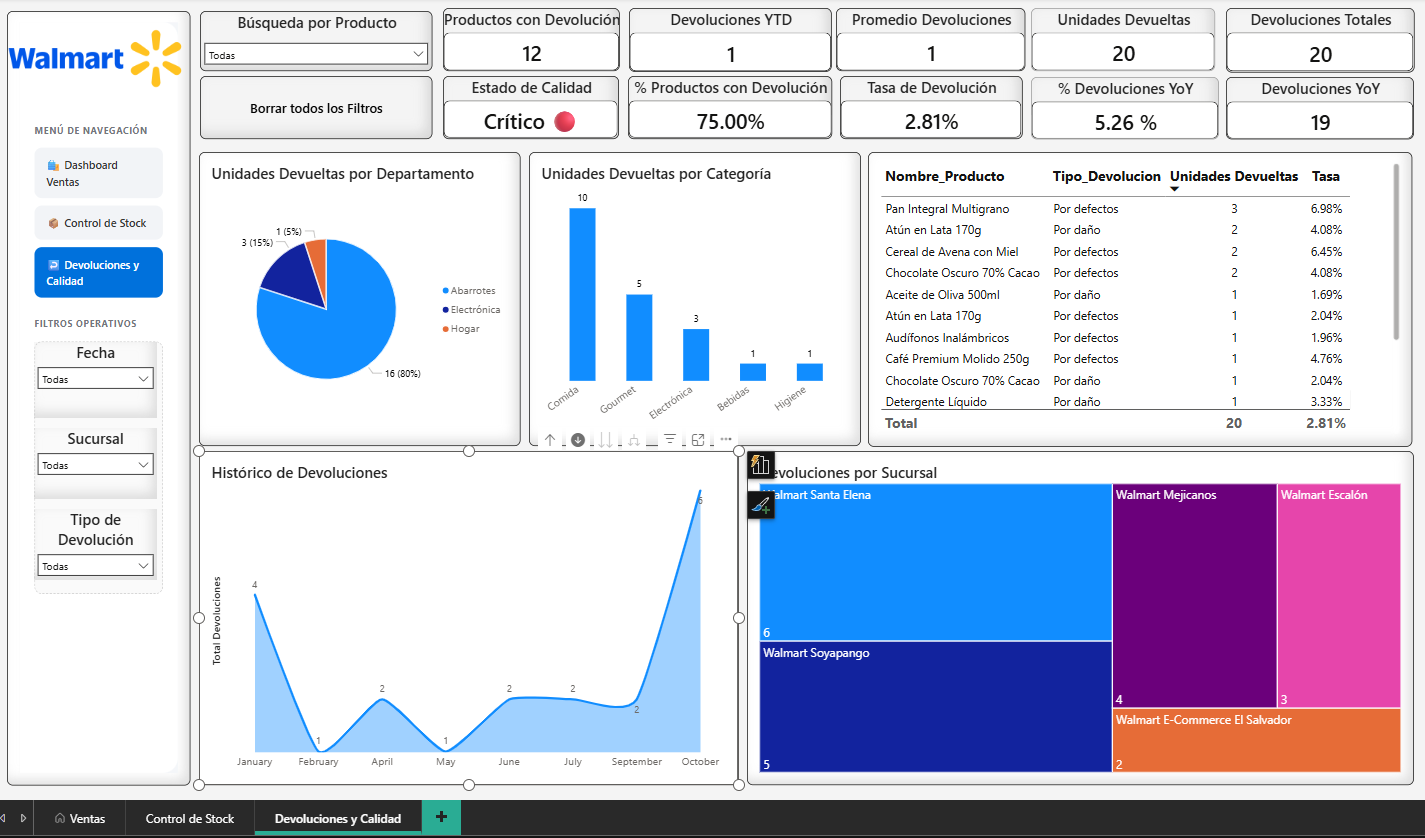

The page's visual inventory and layout, read from the dashboard file:
{"tool":"powerbi","page":{"name":"Devoluciones y Calidad","canvas":[1920,1080],"ordinal":2},"visuals":[{"type":"htmlContent443BE3AD55E043BF878BED274D3A6865","fields":{"content":["Medidas.Barra_Lateral_Devoluciones"]},"box":[10.9,17.2,247,1042.9],"z":0},{"type":"cardVisual","title":"Devoluciones Totales","fields":{"Data":["Medidas.Total Devoluciones"]},"box":[1652.4,13.9,253.7,86.9],"z":1000},{"type":"cardVisual","title":"Unidades Devueltas","fields":{"Data":["Medidas.Total Unidades Devueltas"]},"box":[1390,13.9,248.5,85.1],"z":2000},{"type":"cardVisual","title":"Productos con Devolución","fields":{"Data":["Medidas.Productos con Devoluciones"]},"box":[597.7,13.9,238,85.1],"z":3000},{"type":"cardVisual","title":"Devoluciones YTD","fields":{"Data":["Medidas.Devoluciones YTD"]},"box":[848.4,13.5,273.4,86.2],"z":4000},{"type":"tableEx","fields":{"Values":["vDim_Productos.Nombre_Producto","vFact_Devoluciones.Tipo_Devolucion","Medidas.Total Unidades Devueltas","Medidas.Tasa de Devolucion"]},"box":[1170.6,206.9,732.6,397],"z":5000},{"type":"columnChart","title":"Unidades Devueltas por Categoría","fields":{"Category":["vDim_Productos.Categoria"],"Y":["Medidas.Total Unidades Devueltas"]},"box":[714.1,206.8,446.6,396.2],"z":6000},{"type":"pieChart","title":"Unidades Devueltas por Departamento","fields":{"Category":["vDim_Departamentos.Nombre_Departamento"],"Y":["Medidas.Total Unidades Devueltas"]},"box":[269.3,206.8,432.7,396.2],"z":7000},{"type":"lineChart","title":"Histórico de Devoluciones","fields":{"Category":["vDim_Calendario.Anio Jerarquía.Anio","vDim_Calendario.Anio Jerarquía.Nombre_Mes"],"Y":["Medidas.Total Devoluciones"]},"box":[269.8,610.6,726.5,449.7],"z":8000},{"type":"treemap","title":"Devoluciones por Sucursal","fields":{"Group":["vDim_Tiendas.Nombre_Tienda"],"Values":["Medidas.Total Devoluciones"]},"box":[1006.7,610.6,897.7,449.7],"z":9000},{"type":"actionButton","title":"Ventas","box":[39.8,195.5,190.3,83],"z":10000},{"type":"image","box":[0,13.9,258,135],"z":11000},{"type":"actionButton","title":"Ventas","box":[34.6,278.5,190.3,48.4],"z":12000},{"type":"actionButton","title":"Ventas","box":[34.6,342.5,190.3,65.7],"z":13000},{"type":"slicer","title":"Fecha","fields":{"Values":["vDim_Calendario.Anio","vDim_Calendario.Nombre_Mes"]},"box":[46.9,462.8,165.7,101.6],"z":14000},{"type":"slicer","title":"Sucursal","fields":{"Values":["vDim_Tiendas.Nombre_Tienda"]},"box":[46.9,578.5,165.7,95.4],"z":15000},{"type":"cardVisual","title":"Devoluciones YoY","fields":{"Data":["Medidas.Devoluciones Año Anterior"]},"box":[1652.3,106.4,253.1,84.4],"z":16000},{"type":"cardVisual","title":"% Devoluciones YoY","fields":{"Data":["Medidas.Crecimiento Devoluciones YoY %"]},"box":[1390,106.4,253.1,84.4],"z":17000},{"type":"cardVisual","title":"Tasa de Devolución","fields":{"Data":["Medidas.Tasa de Devolucion"]},"box":[1133,105.5,245.6,84.8],"z":18000},{"type":"cardVisual","title":"% Productos con Devolución","fields":{"Data":["Medidas.% Productos con Devolucion"]},"box":[847.6,105.5,275,84.8],"z":19000},{"type":"cardVisual","title":"Estado de Calidad","fields":{"Data":["Medidas.Estado de Calidad"]},"box":[598.5,105.5,237,84.8],"z":20000},{"type":"cardVisual","title":"Promedio Devoluciones","fields":{"Data":["Medidas.Promedio Unidades por Devolucion"]},"box":[1127.7,13.9,255.4,85.1],"z":21000},{"type":"slicer","title":"Búsqueda por Producto","fields":{"Values":["vDim_Productos.Nombre_Producto"]},"box":[270.1,17.3,313.4,81.4],"z":22000},{"type":"actionButton","box":[270.1,105.6,313.4,84.8],"z":23000},{"type":"slicer","title":"Tipo de Devolución","fields":{"Values":["vFact_Devoluciones.Tipo_Devolucion"]},"box":[46.6,687.8,165.9,95.1],"z":24000}]}

Visuals, with their boxes on the page's 1920x1080 design canvas (x1, y1, x2, y2). These are canvas units, not pixel positions in the 1425x838 screenshot, which may show the page scaled, cropped or inside an application window:
htmlContent443BE3AD55E043BF878BED274D3A6865 - Medidas.Barra_Lateral_Devoluciones: <box>11,17,258,1060</box>
"Devoluciones Totales" cardVisual: <box>1652,14,1906,101</box>
"Unidades Devueltas" cardVisual: <box>1390,14,1638,99</box>
"Productos con Devolución" cardVisual: <box>598,14,836,99</box>
"Devoluciones YTD" cardVisual: <box>848,14,1122,100</box>
tableEx - vDim_Productos.Nombre_Producto x vFact_Devoluciones.Tipo_Devolucion: <box>1171,207,1903,604</box>
"Unidades Devueltas por Categoría" columnChart: <box>714,207,1161,603</box>
"Unidades Devueltas por Departamento" pieChart: <box>269,207,702,603</box>
"Histórico de Devoluciones" lineChart: <box>270,611,996,1060</box>
"Devoluciones por Sucursal" treemap: <box>1007,611,1904,1060</box>
"Ventas" actionButton: <box>40,196,230,278</box>
image: <box>0,14,258,149</box>
"Ventas" actionButton: <box>35,278,225,327</box>
"Ventas" actionButton: <box>35,342,225,408</box>
"Fecha" slicer: <box>47,463,213,564</box>
"Sucursal" slicer: <box>47,578,213,674</box>
"Devoluciones YoY" cardVisual: <box>1652,106,1905,191</box>
"% Devoluciones YoY" cardVisual: <box>1390,106,1643,191</box>
"Tasa de Devolución" cardVisual: <box>1133,106,1379,190</box>
"% Productos con Devolución" cardVisual: <box>848,106,1123,190</box>
"Estado de Calidad" cardVisual: <box>598,106,836,190</box>
"Promedio Devoluciones" cardVisual: <box>1128,14,1383,99</box>
"Búsqueda por Producto" slicer: <box>270,17,584,99</box>
actionButton: <box>270,106,584,190</box>
"Tipo de Devolución" slicer: <box>47,688,212,783</box>
